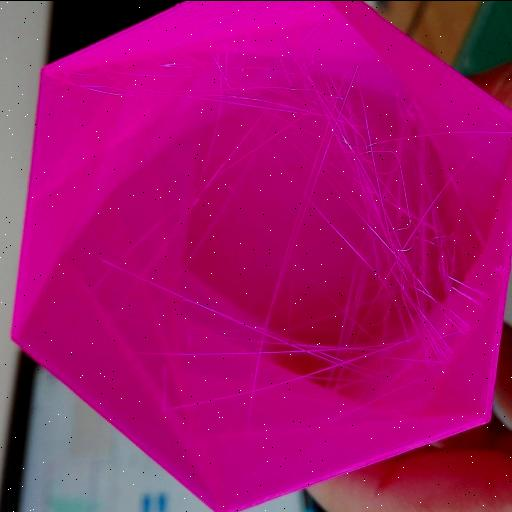stringing: (296, 62, 477, 348), (124, 312, 408, 423), (92, 250, 275, 342), (226, 54, 318, 116)
